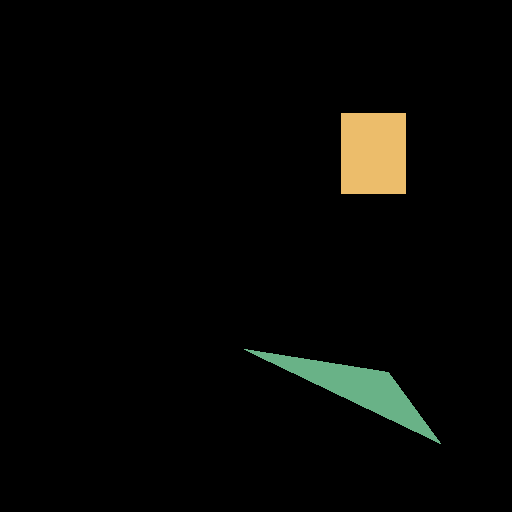rectangle: (341, 113, 405, 193)
triangle: (244, 349, 440, 443)
